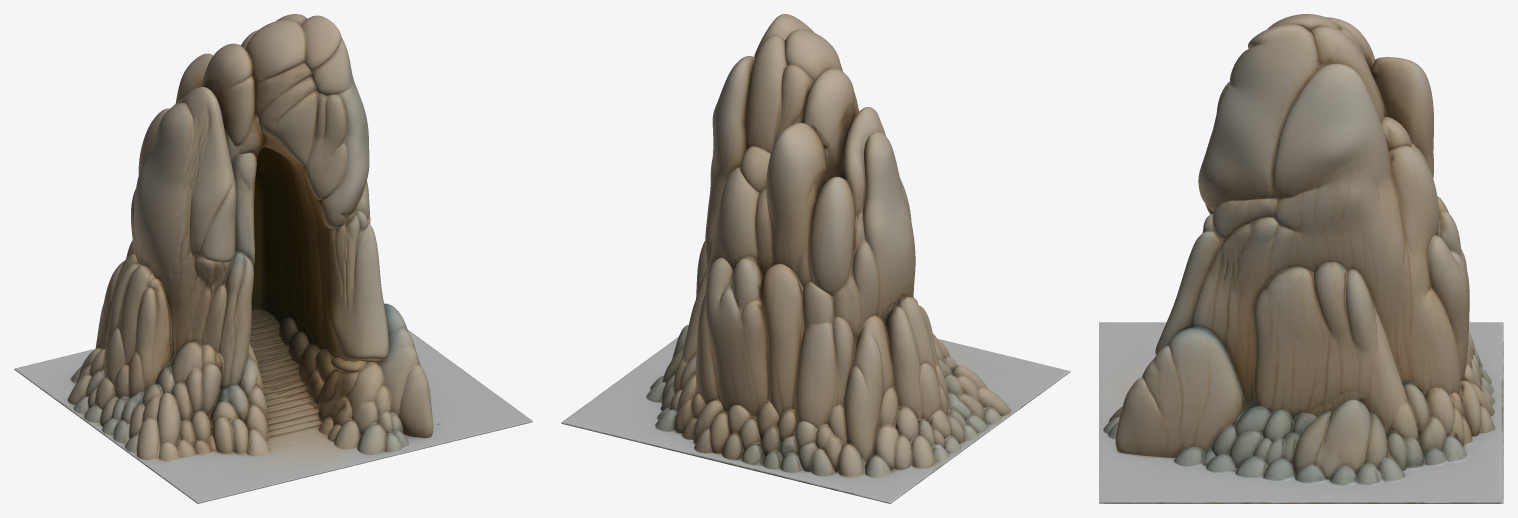
The model's file is montain.glb.
3 renders of one model, left to right at view 1: azimuth 30°, elevation 25°; view 2: azimuth 150°, elevation 25°; view 3: azimuth 270°, elevation 25°, orthographic. The views are drawn at different scales.
Visible parts, largest first — view 1: texture_pbr_v128; view 2: texture_pbr_v128; view 3: texture_pbr_v128.
Part boxes in pixels (x1=…): texture_pbr_v128: x1=14, y1=14, x2=532, y2=503; texture_pbr_v128: x1=561, y1=14, x2=1070, y2=503; texture_pbr_v128: x1=1099, y1=14, x2=1503, y2=503.
Bounding box in the file's own units: 0.6905 × 0.7331 × 0.6541.
1 material, 1 textured.
